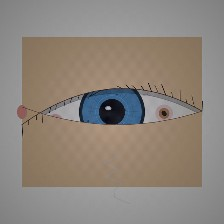foreign_body_visible: (46, 114, 64, 129)
